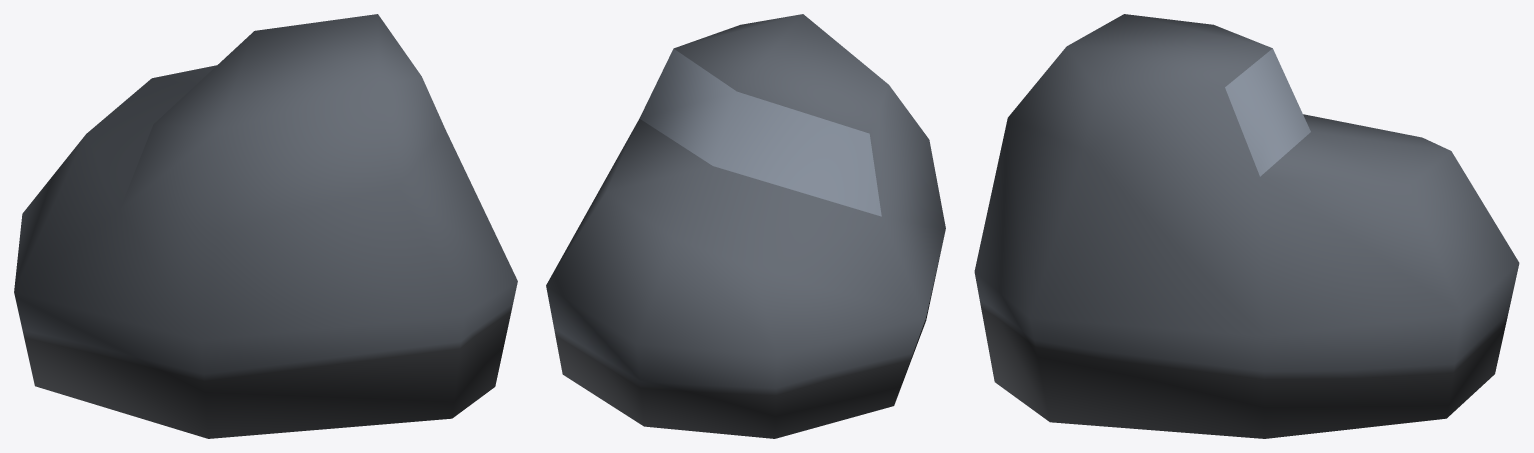
Rendered from stone_TextureTest.fbx.
3 views of the same model, side by side, from view 1: azimuth 30°, elevation 25°; view 2: azimuth 150°, elevation 25°; view 3: azimuth 270°, elevation 25° (orthographic). The views are drawn at different scales.
Visible parts, largest first — view 1: Cube; view 2: Cube; view 3: Cube.
Part boxes in pixels (<box>): Cube: <box>14,14,517,438</box>; Cube: <box>546,14,945,438</box>; Cube: <box>974,14,1519,438</box>.
Size of the model in its own units: 38.51 by 29.95 by 43.52.
